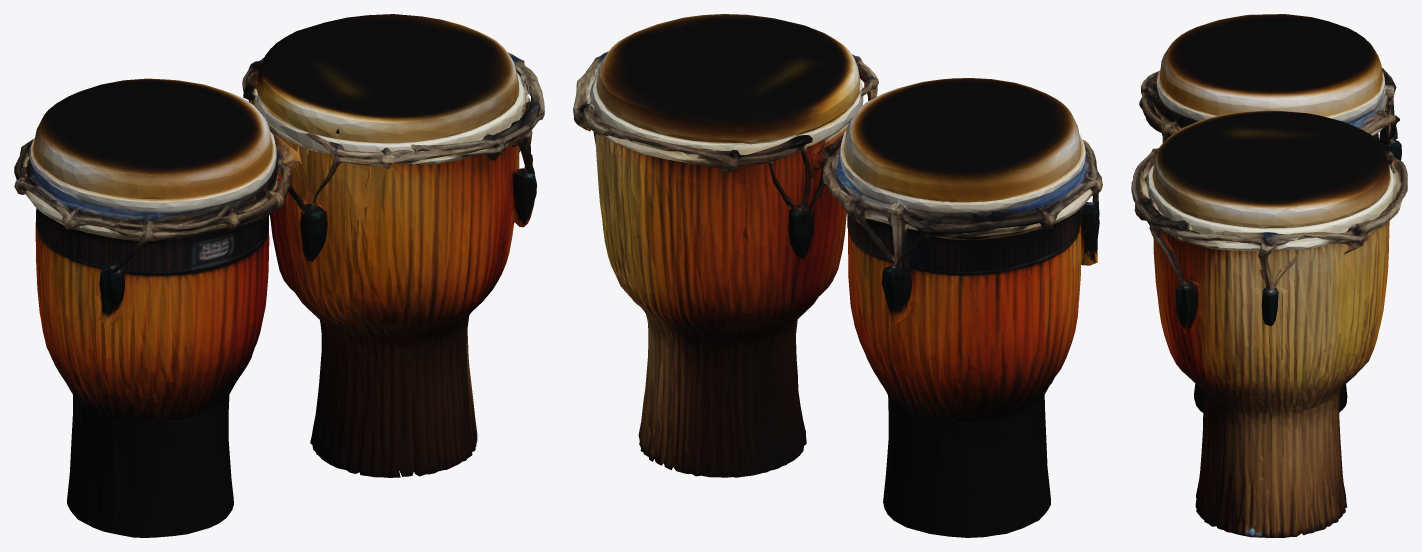
File: palm-fiber-bongo-drums-new-style.jpeg.glb
3 renders of one model, left to right at view 1: azimuth 30°, elevation 25°; view 2: azimuth 150°, elevation 25°; view 3: azimuth 270°, elevation 25°, orthographic. The views are drawn at different scales.
Visible parts, largest first — view 1: world; view 2: world; view 3: world.
Part boxes in pixels (bbox=[...]): world: bbox=[14, 14, 544, 537]; world: bbox=[573, 14, 1102, 537]; world: bbox=[1131, 14, 1407, 537].
Size of the model in its own units: 0.993 by 0.7421 by 0.5359.
1 material, 1 textured.
